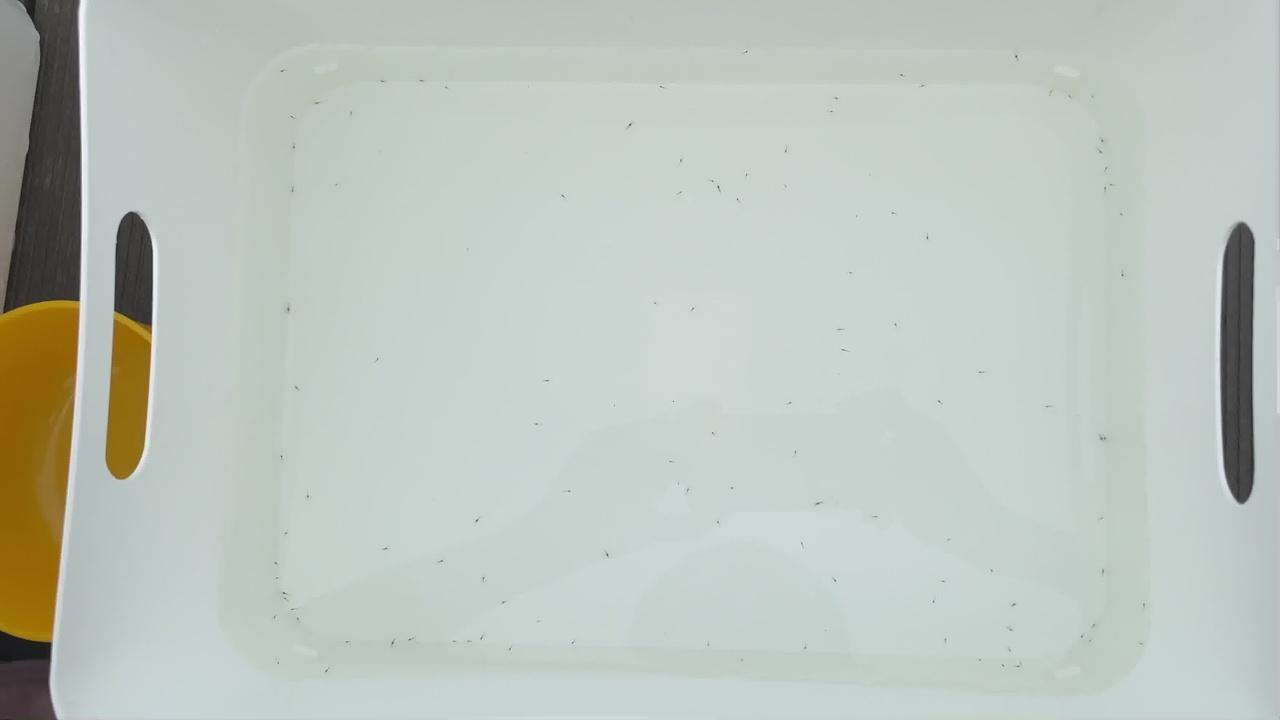shrimp: (278, 68, 290, 76), (290, 140, 302, 148), (286, 113, 298, 121), (313, 98, 325, 106), (346, 110, 358, 118), (377, 76, 389, 84), (416, 79, 428, 87), (444, 86, 456, 94), (285, 186, 297, 194), (330, 181, 342, 189), (283, 302, 295, 310), (289, 385, 301, 393), (369, 359, 381, 367), (530, 421, 542, 429), (543, 378, 555, 386), (649, 301, 661, 309), (690, 307, 702, 315), (733, 196, 745, 204), (740, 169, 752, 177), (714, 186, 726, 194), (706, 177, 718, 185), (670, 190, 682, 198), (677, 158, 689, 166), (627, 120, 639, 128), (560, 191, 572, 199), (655, 86, 667, 94), (778, 146, 790, 154), (742, 48, 754, 56), (826, 109, 838, 117), (830, 95, 842, 103), (893, 72, 905, 80), (920, 84, 932, 92), (1010, 53, 1022, 61), (1043, 88, 1055, 96), (1065, 94, 1077, 102), (1085, 94, 1097, 102), (1097, 136, 1109, 144), (1097, 147, 1109, 155), (1101, 165, 1113, 173), (1108, 181, 1120, 189), (1099, 188, 1111, 196), (1117, 210, 1129, 218), (1119, 269, 1131, 277), (922, 236, 934, 244), (888, 211, 900, 219), (851, 213, 863, 221), (782, 183, 794, 191), (847, 265, 859, 273), (834, 326, 846, 334), (839, 347, 851, 355), (890, 323, 902, 331), (933, 396, 945, 404), (975, 368, 987, 376), (1044, 401, 1056, 409), (1097, 436, 1109, 444), (1100, 437, 1112, 445), (1141, 600, 1153, 608), (1136, 641, 1148, 649), (1089, 622, 1101, 630), (1085, 640, 1097, 648), (1077, 632, 1089, 640), (1099, 566, 1111, 574), (1097, 513, 1109, 521), (1009, 599, 1021, 607), (1006, 625, 1018, 633), (1004, 645, 1016, 653), (1015, 663, 1027, 671), (1000, 664, 1012, 672), (975, 657, 987, 665), (939, 636, 951, 644), (928, 596, 940, 604), (938, 575, 950, 583), (986, 566, 998, 574), (944, 538, 956, 546), (869, 515, 881, 523), (812, 501, 824, 509), (797, 539, 809, 547), (831, 579, 843, 587), (800, 646, 812, 654), (702, 640, 714, 648), (711, 519, 723, 527), (727, 482, 739, 490), (789, 447, 801, 455), (786, 396, 798, 404), (709, 429, 721, 437), (666, 457, 678, 465), (683, 489, 695, 497), (604, 552, 616, 560), (562, 488, 574, 496), (468, 517, 480, 525), (383, 545, 395, 553), (435, 558, 447, 566), (479, 577, 491, 585), (501, 598, 513, 606), (571, 640, 583, 648), (533, 618, 545, 626), (505, 646, 517, 654), (478, 633, 490, 641), (462, 640, 474, 648), (450, 640, 462, 648), (405, 635, 417, 643), (387, 641, 399, 649), (343, 640, 355, 648), (321, 669, 333, 677), (272, 660, 284, 668), (293, 619, 305, 627), (287, 606, 299, 614), (268, 614, 280, 622), (280, 596, 292, 604), (279, 589, 291, 597), (270, 559, 282, 567), (281, 529, 293, 537), (303, 490, 315, 498), (276, 456, 288, 464), (273, 570, 285, 578)
